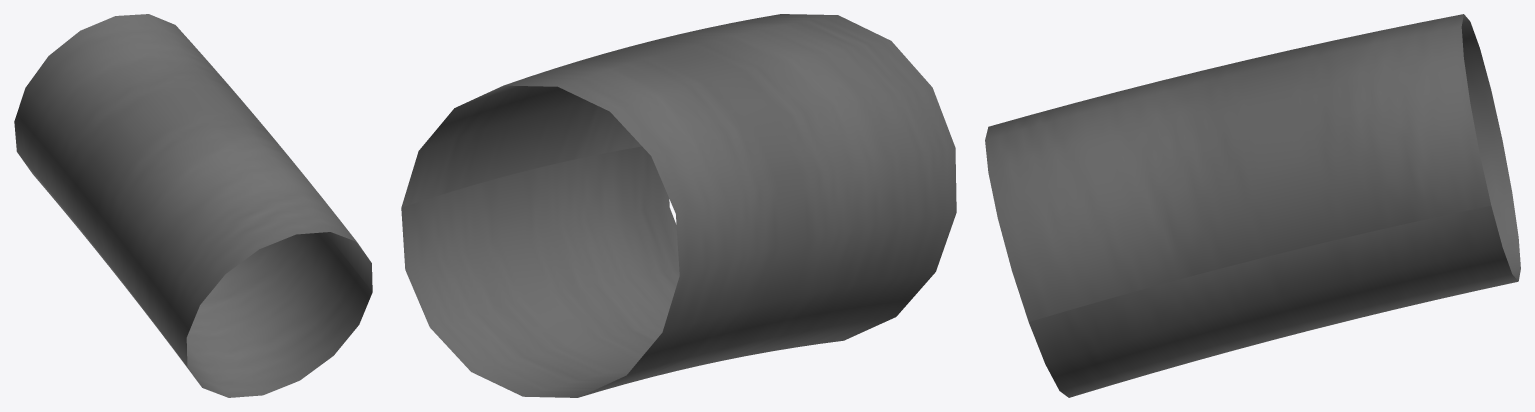
The model's file is mastarmcurve_6x2_c5.obj.
3 views of the same model, side by side, from view 1: azimuth 30°, elevation 25°; view 2: azimuth 150°, elevation 25°; view 3: azimuth 270°, elevation 25° (orthographic). The views are drawn at different scales.
Visible parts, largest first — view 1: mastarm_6x2_c5; view 2: mastarm_6x2_c5; view 3: mastarm_6x2_c5.
Part boxes in pixels (left/top/right/bottom): mastarm_6x2_c5: left=14, top=14, right=372, bottom=397; mastarm_6x2_c5: left=401, top=14, right=956, bottom=397; mastarm_6x2_c5: left=985, top=14, right=1520, bottom=397.
Bounding box in the file's own units: 0.5608 × 0.7815 × 1.06.
